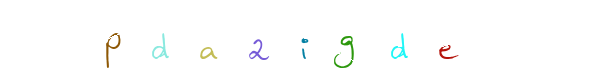2: (219, 0, 299, 80)
A: (218, 0, 298, 80)
D: (199, 0, 279, 80), (306, 0, 386, 80)
E: (359, 0, 439, 80)
G: (264, 0, 344, 80)
I: (255, 0, 335, 80)
P: (195, 0, 275, 80)
